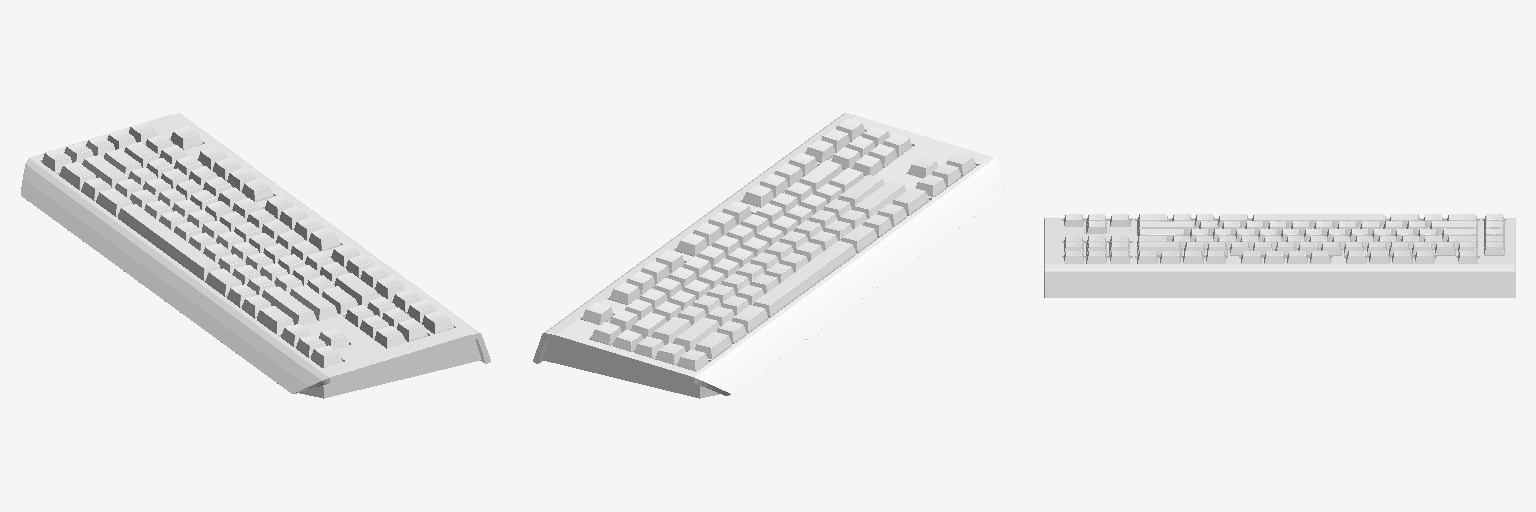
robot.urdf — laptop:
<?xml version="1.0" ?>
<robot name="laptop">
  <link name="boxLink">
    <inertial>
      <origin rpy="0 0 0" xyz="0 0 0"/>
       <mass value="1.0"/>
       <inertia ixx="1" ixy="0" ixz="0" iyy="1" iyz="0" izz="1"/>
    </inertial>
    <visual>
      <origin rpy="0 0 0" xyz="0 0 0"/>
      <geometry>
		    <mesh filename="keyboard.stl" scale="1 1 1"/>
      </geometry>
      <material name="white">
        <color rgba="1 1 1 1"/>
      </material>
    </visual>
    <collision>
      <origin rpy="0 0 0" xyz="0 0 0"/>
      <geometry>
	 	    <box size="0.24 0.72 0.06"/>
      </geometry>
    </collision>
  </link>
</robot>

--- Facts derived from the render (not from the file) ---
Views: 3 orthographic renders of the robot side by side, from view 1: azimuth 30°, elevation 25°; view 2: azimuth 150°, elevation 25°; view 3: azimuth 270°, elevation 25°.
Model laptop with 1 links and 0 joints (none), rooted at boxLink, posed all joints at 0.
Links seen in each view (by area): view 1: boxLink; view 2: boxLink; view 3: boxLink.
Boxes of the visible links, bbox=[...] form: boxLink: bbox=[21, 113, 490, 398]; boxLink: bbox=[533, 113, 1002, 398]; boxLink: bbox=[1044, 214, 1515, 297].
Bounding box of the posed robot: 0.2585 × 0.727 × 0.0567 m (x, y, z).
Meshes: 1 distinct files referenced, 1 mesh visuals loaded (1 binary STL).